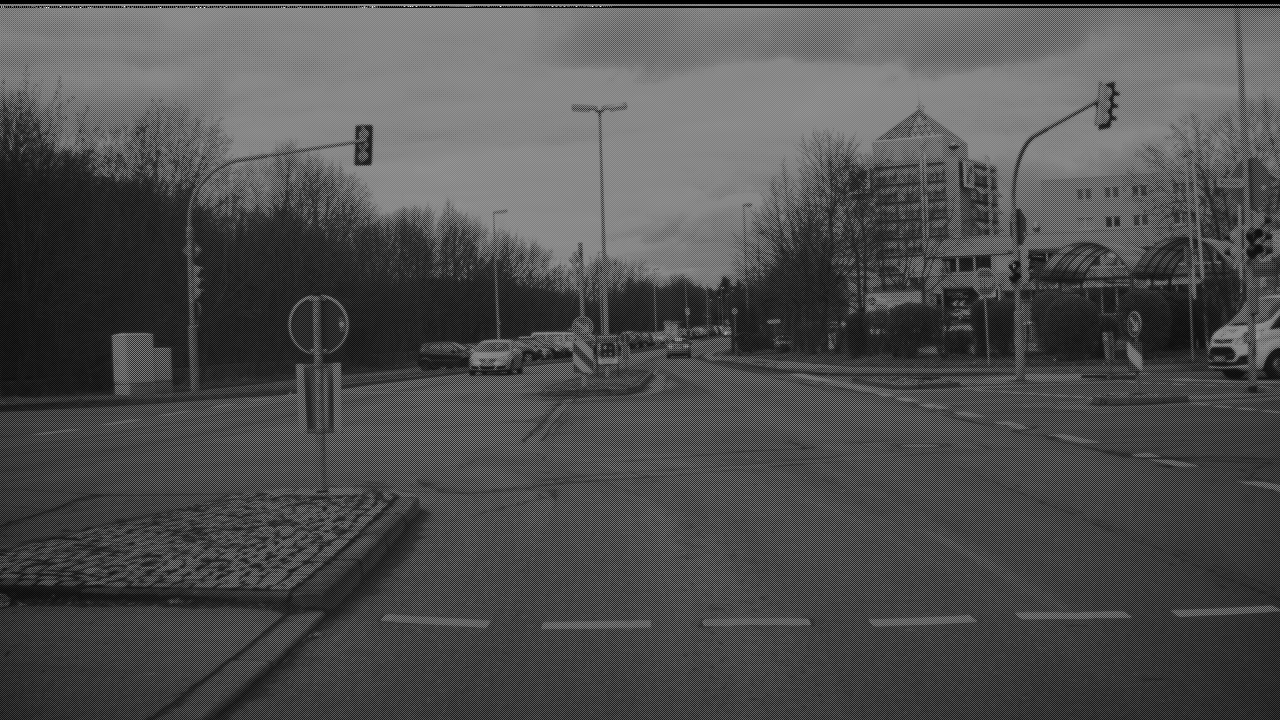pole: (24, 1, 46, 382), (256, 149, 271, 371), (1082, 174, 1096, 385), (673, 106, 683, 367), (781, 208, 789, 329)
